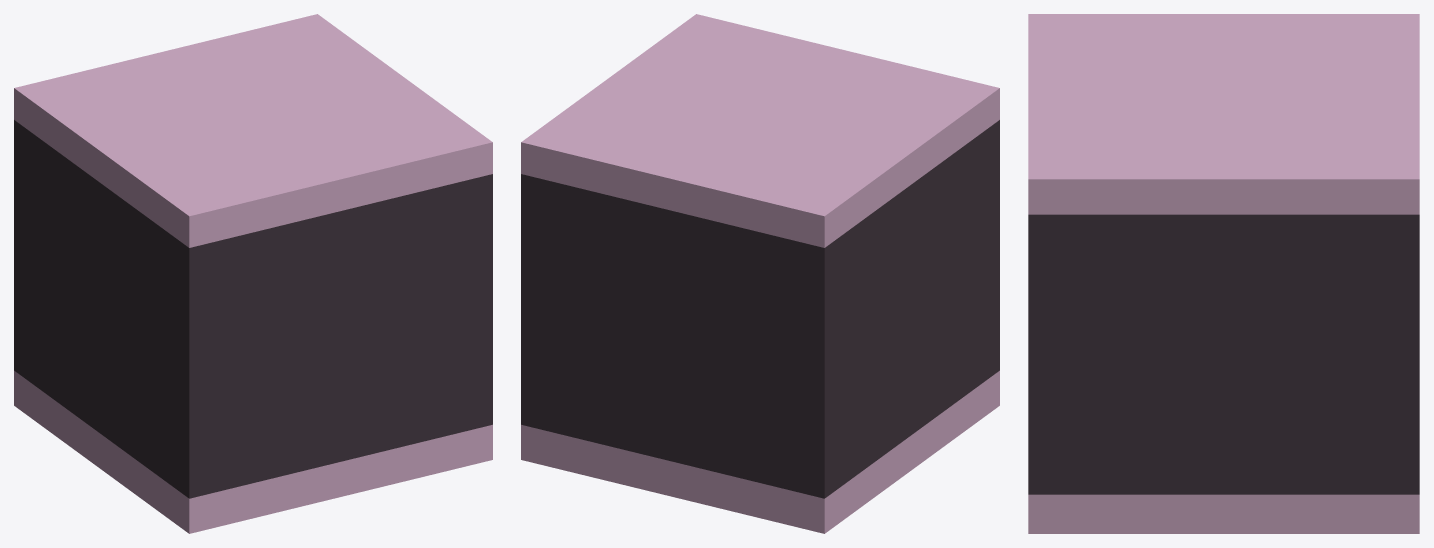
File: Prop_sci_table_wood1.FBX
The picture shows the model from 3 angles, left to right: view 1: azimuth 30°, elevation 25°; view 2: azimuth 150°, elevation 25°; view 3: azimuth 270°, elevation 25°; orthographic projection. The views are drawn at different scales.
Parts seen in each view (by area): view 1: Box182; view 2: Box182; view 3: Box182.
Part boxes in pixels (bbox=[...]): Box182: bbox=[14, 14, 492, 533]; Box182: bbox=[521, 14, 999, 533]; Box182: bbox=[1028, 14, 1419, 533].
Size of the model in its own units: 19.69 by 19.69 by 19.69.
